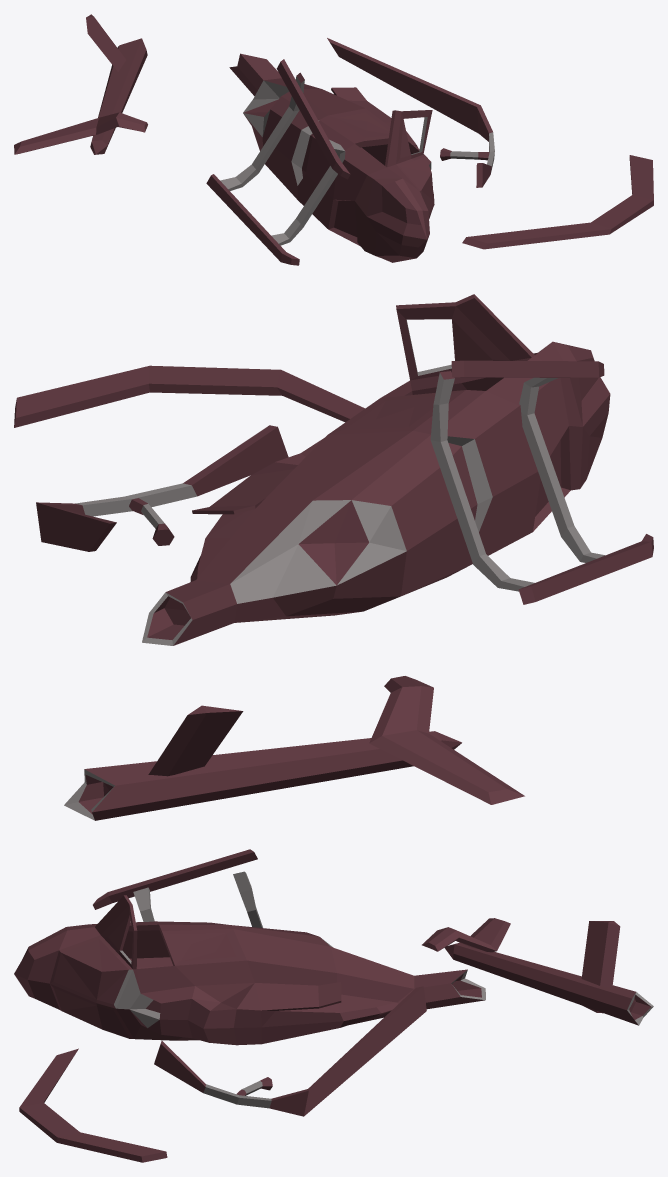
File: helicopter-broken-apocalypse.fbx
The picture shows the model from 3 angles, top to bottom: view 1: azimuth 30°, elevation 25°; view 2: azimuth 150°, elevation 25°; view 3: azimuth 270°, elevation 25°; orthographic projection. The views are drawn at different scales.
Parts seen in each view (by area): view 1: helicopter-broken-apocalypse; view 2: helicopter-broken-apocalypse; view 3: helicopter-broken-apocalypse.
Part boxes in pixels (x1,y1,x2,y2): helicopter-broken-apocalypse: (14,14,653,265); helicopter-broken-apocalypse: (14,294,653,820); helicopter-broken-apocalypse: (14,849,653,1162).
Size of the model in its own units: 7.42 by 2.2 by 8.35.
